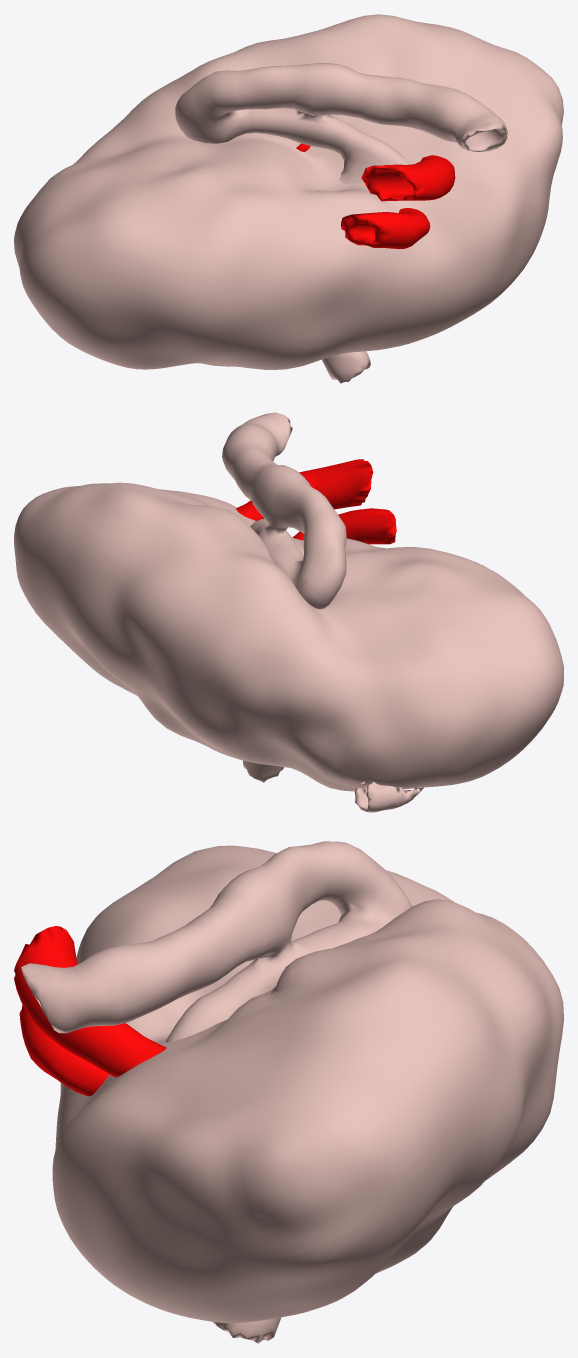
3 views of the same model, one above another, from view 1: azimuth 30°, elevation 25°; view 2: azimuth 150°, elevation 25°; view 3: azimuth 270°, elevation 25° (orthographic). The views are drawn at different scales.
Parts seen in each view (by area): view 1: Yao_capsule_of_lymph_node, Yao_efferent_lymph_node, Yao_blood_vasculature, Yao_afferent_lymphatic_vessel; view 2: Yao_capsule_of_lymph_node, Yao_efferent_lymph_node, Yao_blood_vasculature, Yao_afferent_lymphatic_vessel; view 3: Yao_capsule_of_lymph_node, Yao_efferent_lymph_node, Yao_blood_vasculature, Yao_afferent_lymphatic_vessel.
Part boxes in pixels (<box>): Yao_capsule_of_lymph_node: <box>14,14,563,369</box>; Yao_efferent_lymph_node: <box>175,63,507,183</box>; Yao_blood_vasculature: <box>296,143,455,248</box>; Yao_afferent_lymphatic_vessel: <box>322,351,370,383</box>; Yao_capsule_of_lymph_node: <box>14,482,563,791</box>; Yao_efferent_lymph_node: <box>222,412,346,609</box>; Yao_blood_vasculature: <box>236,459,396,544</box>; Yao_afferent_lymphatic_vessel: <box>243,760,423,812</box>; Yao_capsule_of_lymph_node: <box>52,845,563,1323</box>; Yao_efferent_lymph_node: <box>21,841,412,1042</box>; Yao_blood_vasculature: <box>14,926,166,1096</box>; Yao_afferent_lymphatic_vessel: <box>213,1317,281,1343</box>.
Size of the model in its own units: 0.0196 by 0.0113 by 0.0125.
